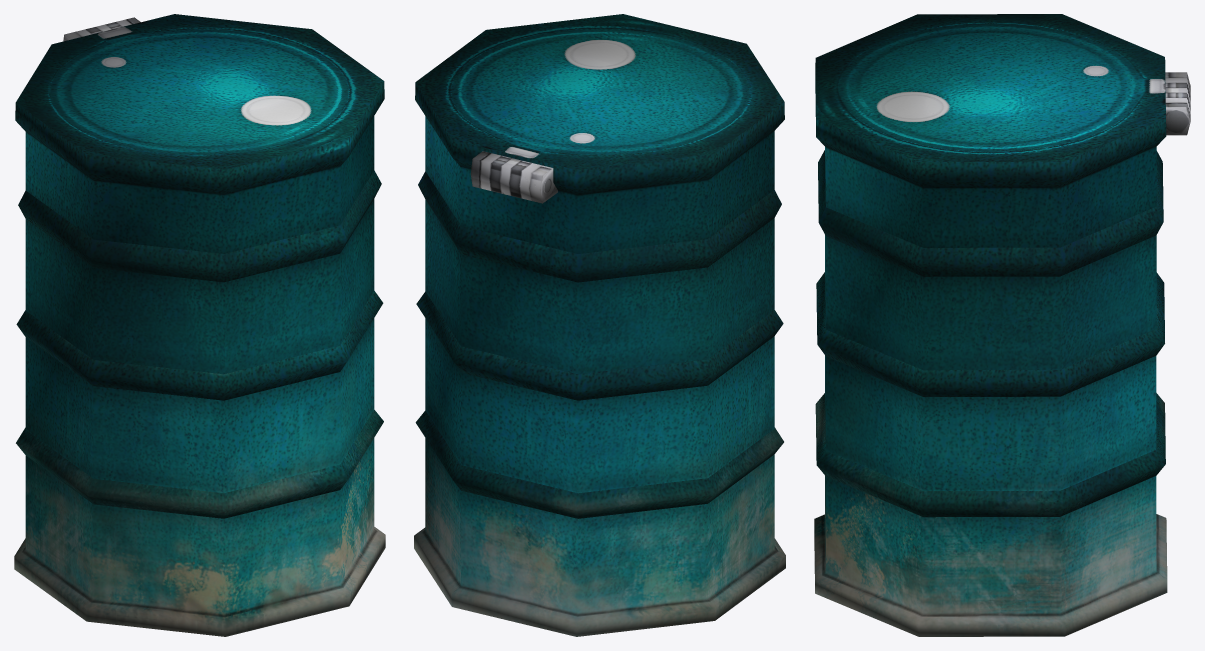
File: barrel.fbx
The picture shows the model from 3 angles, left to right: view 1: azimuth 30°, elevation 25°; view 2: azimuth 150°, elevation 25°; view 3: azimuth 270°, elevation 25°; orthographic projection.
Visible parts, largest first — view 1: barrel; view 2: barrel; view 3: barrel.
Boxes of the visible parts, x1,y1,x2,y2 form: barrel: (14, 14, 385, 636); barrel: (414, 14, 785, 636); barrel: (814, 14, 1190, 636).
Size of the model in its own units: 63.36 by 93.91 by 67.56.
